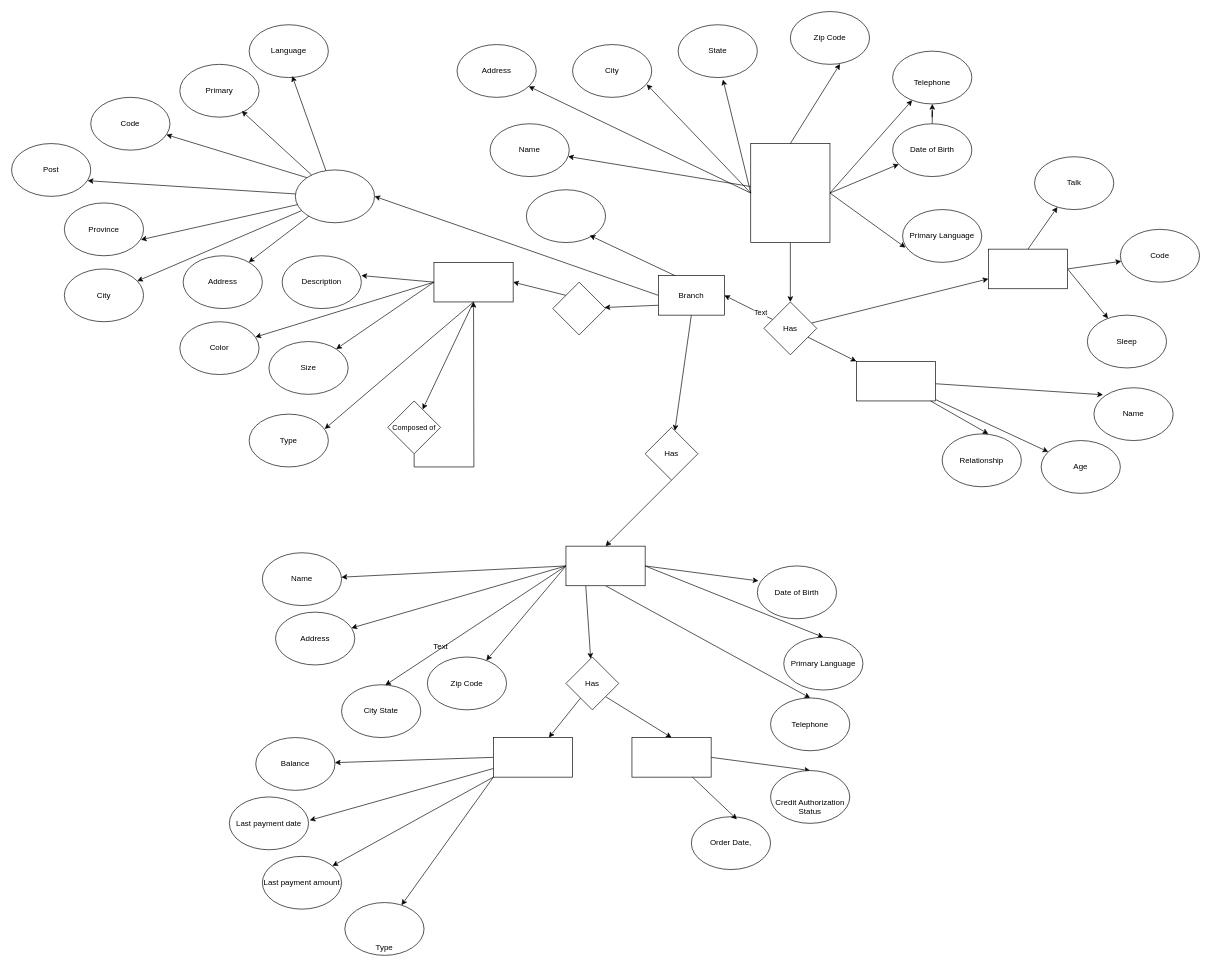
The diagram is 1211 pixels wide and 967 high, and some of its shapes have lost their labels. The shapes that lost their labels are listed below. From the top down, each one's centre as x and y in pixels, then its label:
(335,196): Location
(790,193): Employee
(566,216): Branch Number
(473,282): Item
(1028,268): Skill
(579,308): Sells
(896,381): Dependent
(605,565): Customer
(533,757): Account
(671,757): Order
